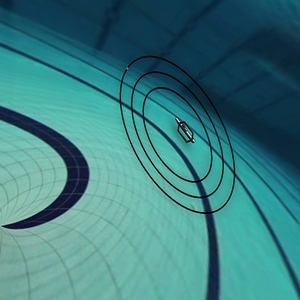circle: (102, 51, 251, 225)
submarine: (166, 114, 204, 151)
